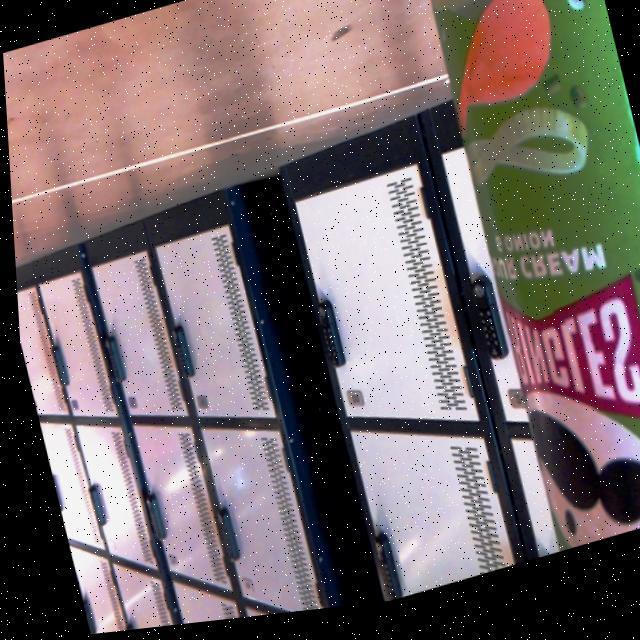greenpringles: (374, 0, 640, 582)
